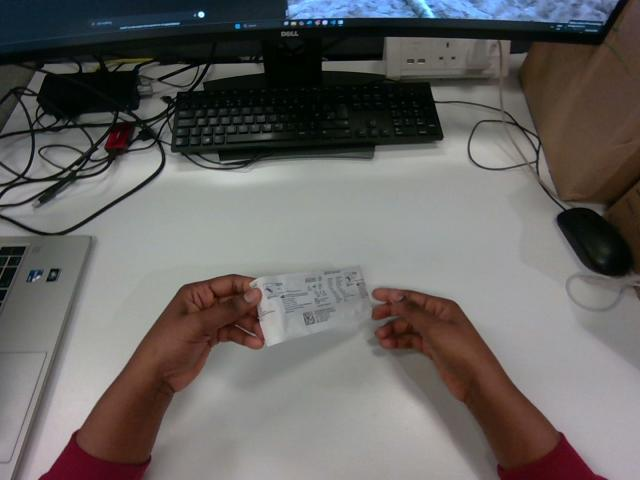syringe: (251, 266, 371, 345)
